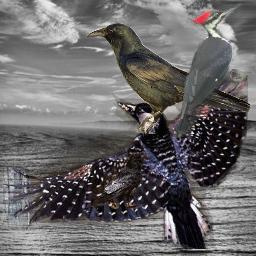Crow: (85, 22, 252, 134), (90, 152, 149, 209)
Woodpecker: (3, 69, 248, 249), (170, 3, 246, 137)
